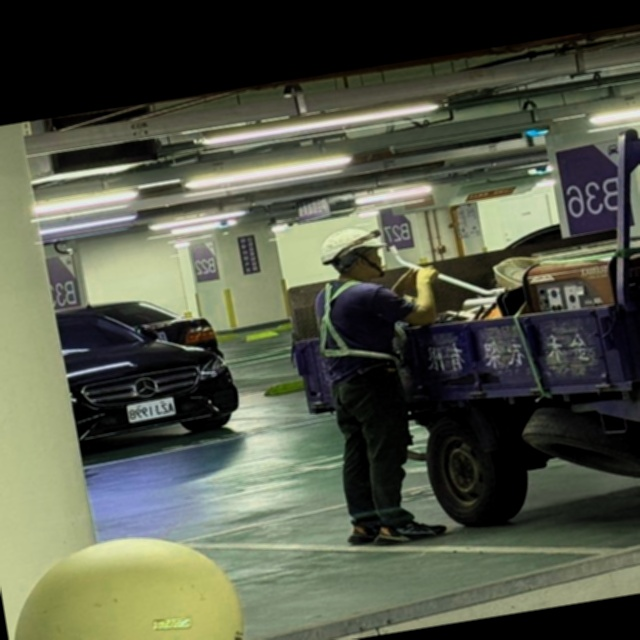Con_Casco: (315, 222, 393, 286)
Con_Chaleco: (311, 276, 405, 381)
